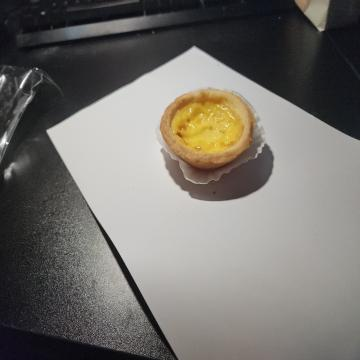EggTart: (161, 88, 255, 171)
